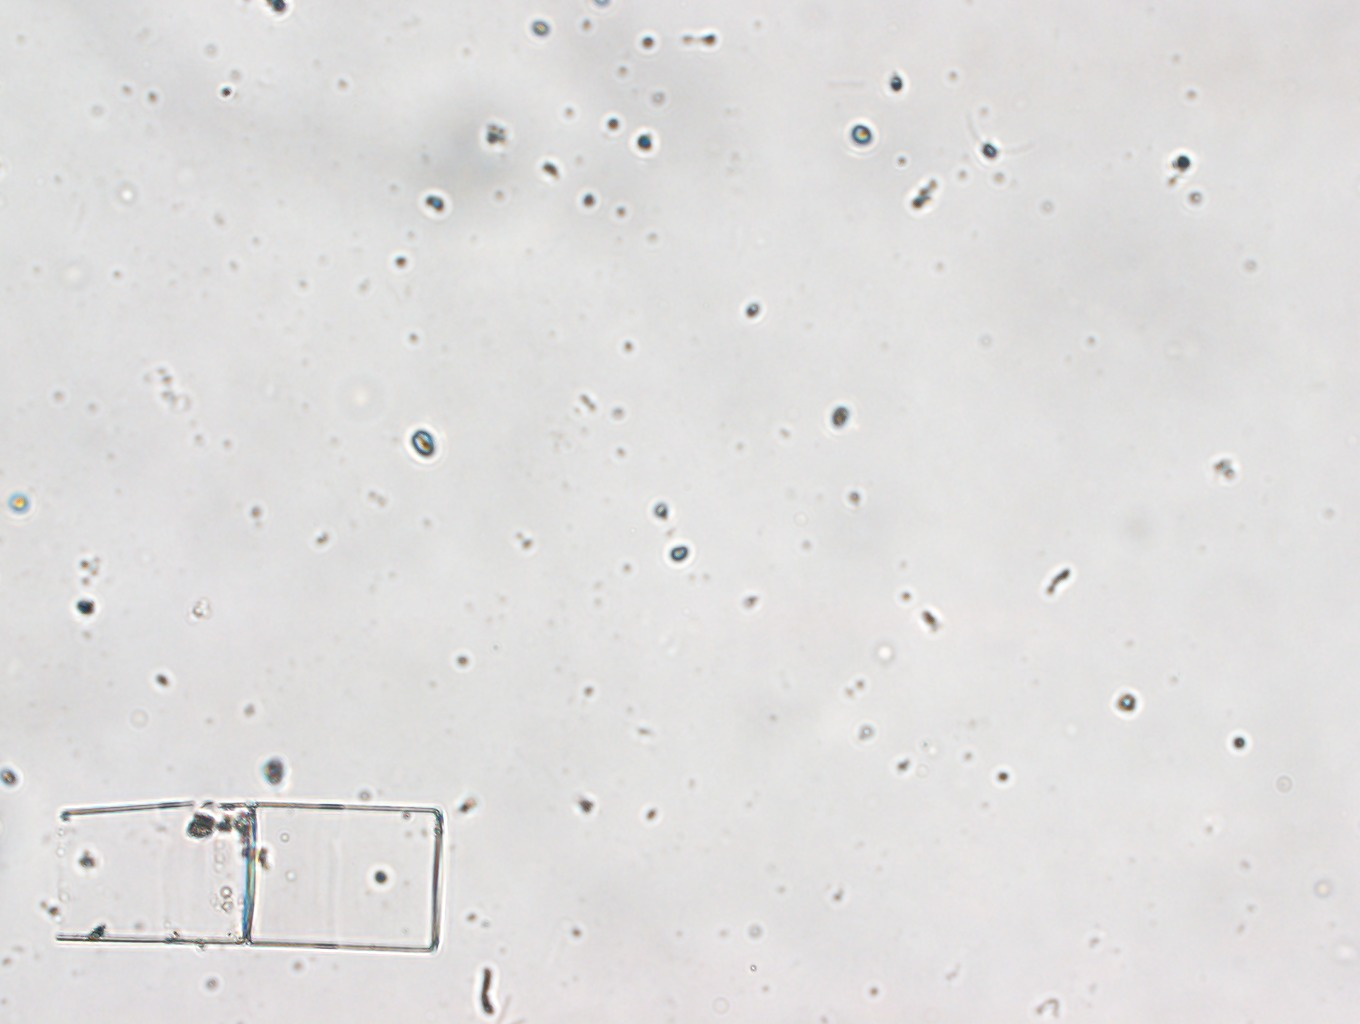guinardia flaccida: (53, 798, 443, 957)
